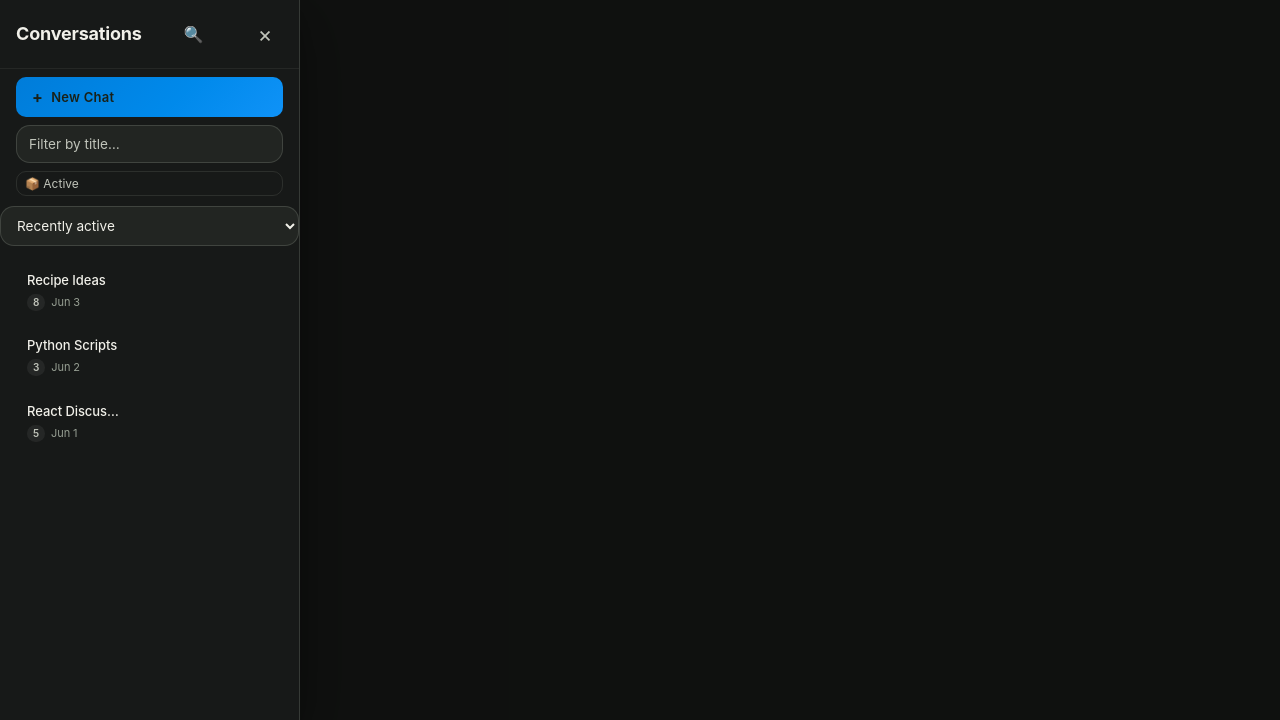
Test: ConversationSidebar quick filter › filters conversations by title
Expected: the text "React Discussion" is shown, [27,401,119,422]
Type "python" into the field with placeholder "Filter by title…".
click(150, 144); type("python")  # box [16,125,283,163]
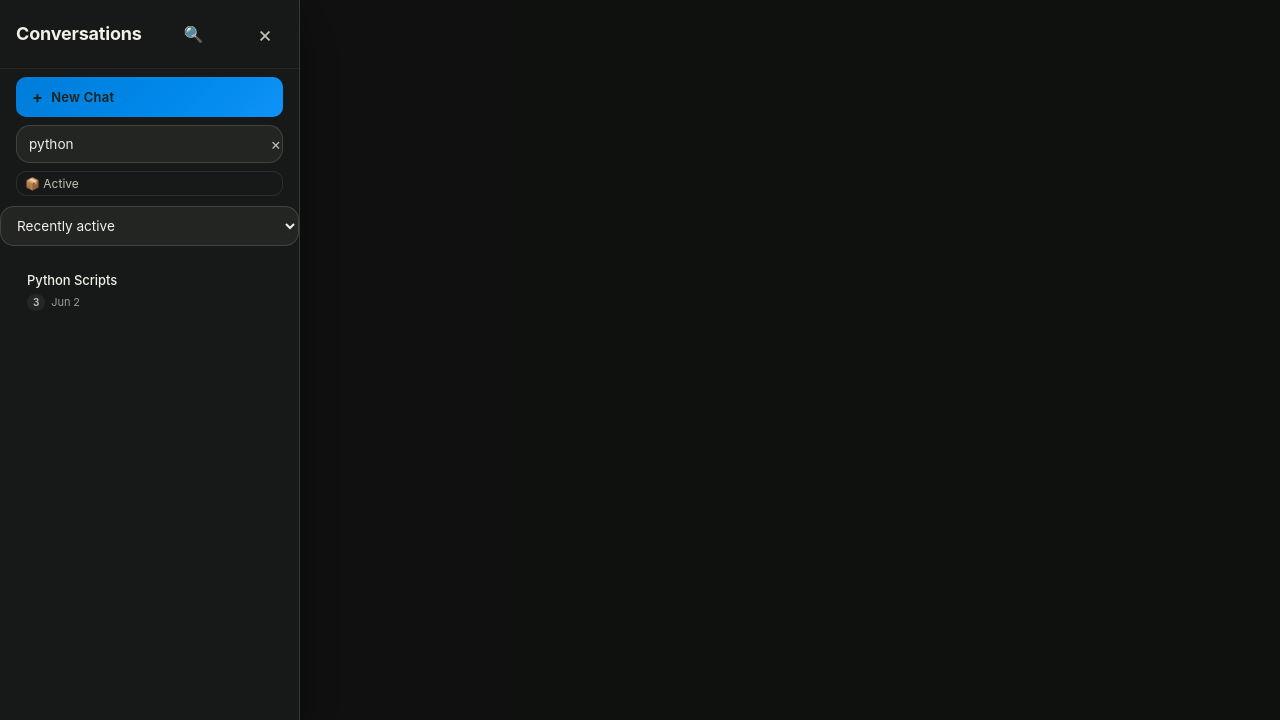
Expected: the text "Python Scripts" is shown, [27,270,119,291]
Expected: the text "React Discussion" is gone
Expected: the text "Recipe Ideas" is gone
